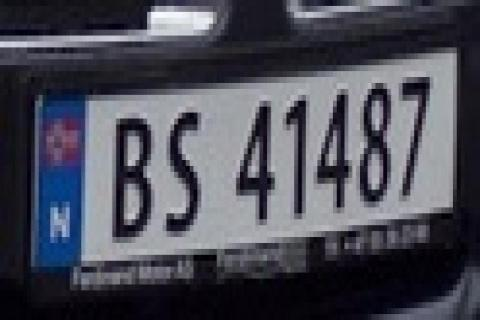LicensePlate: (19, 28, 474, 300)
